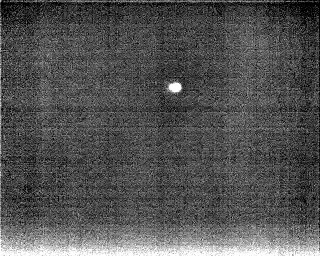AIRPLANE: (166, 80, 184, 96)
